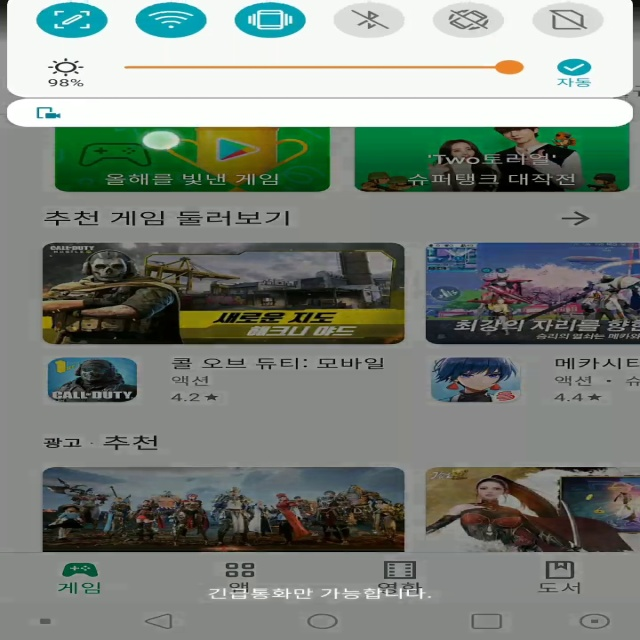Cursor: (140, 129, 184, 152)
